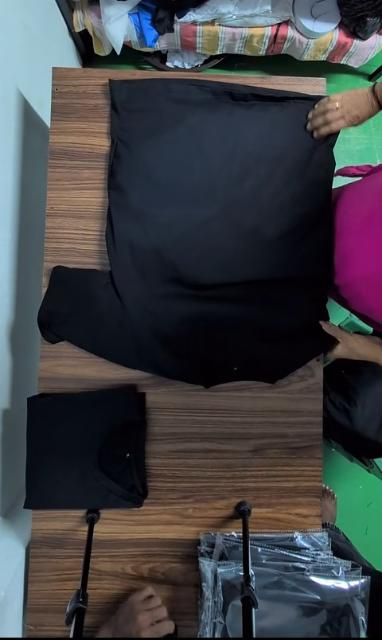new-garment: (39, 79, 334, 387)
